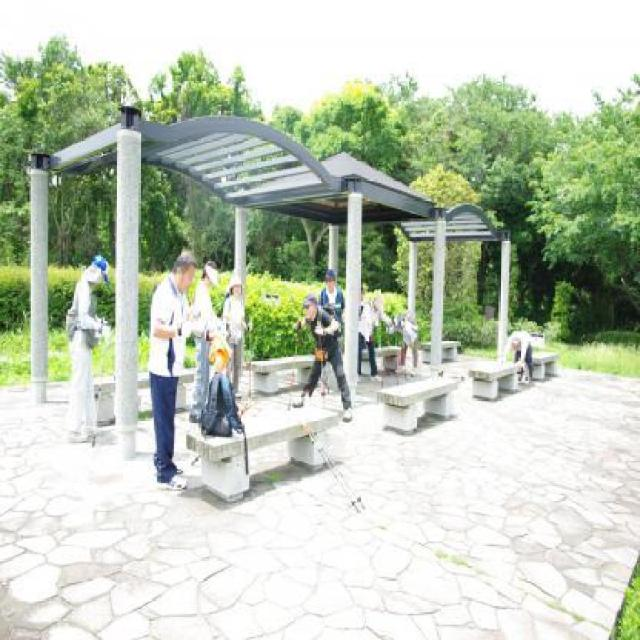Person: (140, 249, 188, 489), (66, 252, 111, 446), (303, 297, 352, 426), (190, 260, 224, 418), (222, 276, 248, 398), (358, 295, 394, 383), (318, 269, 344, 388), (389, 308, 416, 372), (500, 330, 534, 379), (358, 283, 365, 320)
